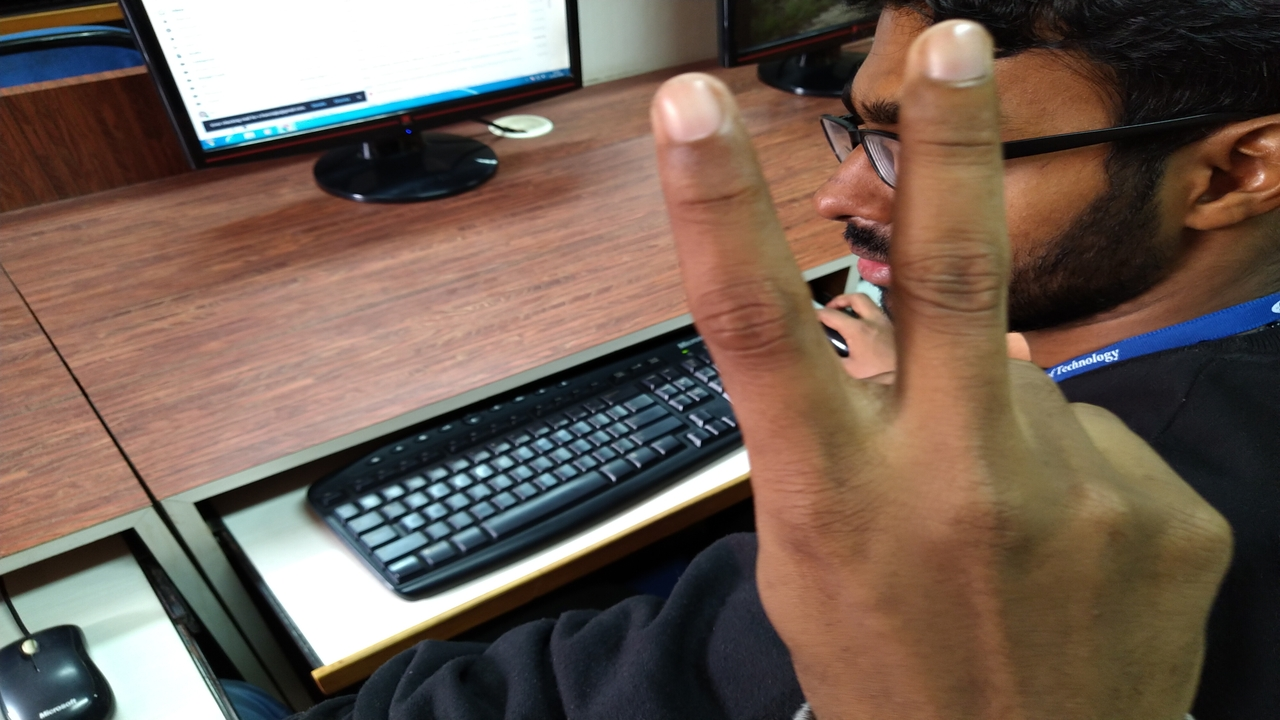fingertip: (638, 70, 740, 146), (908, 22, 998, 96)
